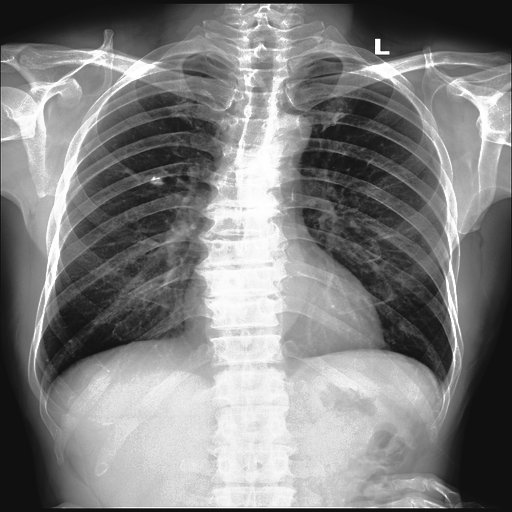Calcification: (32, 379, 58, 406), (430, 371, 451, 398)
Lung Opacity: (147, 173, 162, 184)
Other lesion: (147, 173, 162, 184)
Pleural effusion: (32, 379, 58, 406), (430, 371, 451, 398)
Pulmonary fibrosis: (147, 175, 164, 185)
